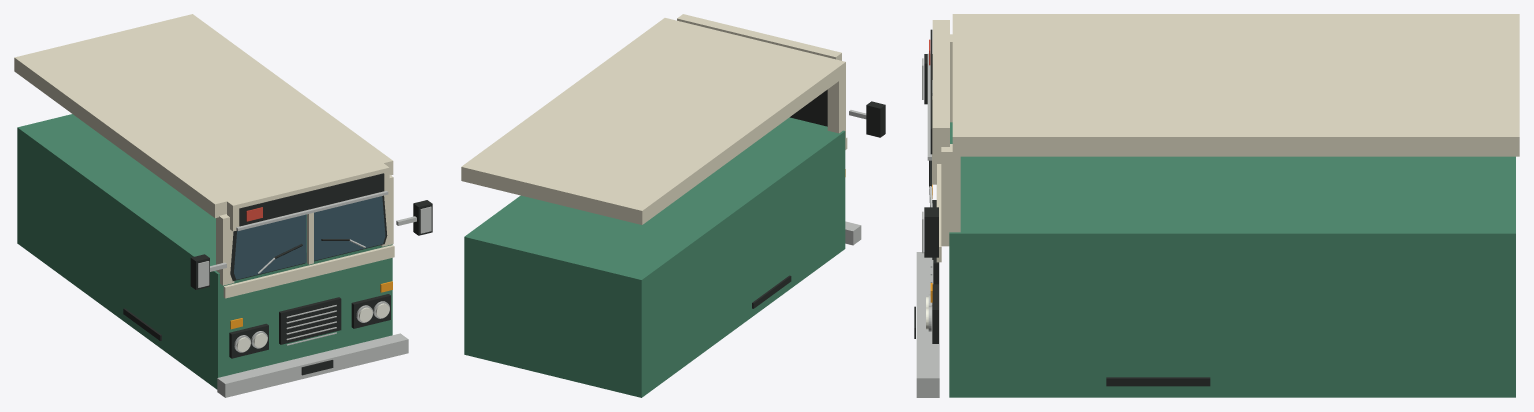
Rendered from TNSTC_Ordinary_Front.glb.
3 views of the same model, side by side, from view 1: azimuth 30°, elevation 25°; view 2: azimuth 150°, elevation 25°; view 3: azimuth 270°, elevation 25° (orthographic). The views are drawn at different scales.
Parts seen in each view (by area): view 1: Full width body shell, Roof cap, Stamped front bumper, Ordinary split glass -1, Ordinary split glass 1, Destination recessed black display, Front cream belt, Destination outer housing, Ordinary narrower grille, A pillar -1, Destination display lower lip, Ordinary lamp surround -1 (+4 smaller); view 2: Full width body shell, Roof cap, Destination outer housing, A pillar -1, Ordinary windscreen gasket -1, Mirror casing -1; view 3: Full width body shell, Roof cap, Stamped front bumper, Destination outer housing, A pillar 1, Wheel arch side 1, Mirror casing 1.
Boxes of the visible parts, x1,y1,x2,y2 form: Full width body shell: [17, 114, 392, 389]; Roof cap: [14, 14, 393, 218]; Stamped front bumper: [217, 333, 408, 397]; Ordinary split glass -1: [234, 214, 306, 279]; Ordinary split glass 1: [314, 196, 385, 260]; Destination recessed black display: [239, 173, 384, 226]; Front cream belt: [223, 245, 394, 298]; Destination outer housing: [227, 163, 389, 231]; Ordinary narrower grille: [279, 297, 341, 344]; A pillar -1: [216, 214, 234, 285]; Destination display lower lip: [236, 191, 388, 230]; Ordinary lamp surround -1: [229, 323, 268, 358]; Full width body shell: [464, 117, 845, 397]; Roof cap: [461, 18, 845, 224]; Destination outer housing: [677, 14, 841, 60]; A pillar -1: [827, 76, 845, 138]; Ordinary windscreen gasket -1: [790, 89, 827, 126]; Mirror casing -1: [866, 101, 885, 137]; Full width body shell: [949, 122, 1515, 397]; Roof cap: [952, 14, 1519, 156]; Stamped front bumper: [916, 252, 939, 397]; Destination outer housing: [932, 20, 949, 163]; A pillar 1: [941, 144, 960, 246]; Wheel arch side 1: [1106, 377, 1210, 386]; Mirror casing 1: [924, 207, 938, 257].
Size of the model in its own units: 3.37 by 2.54 by 5.28.
